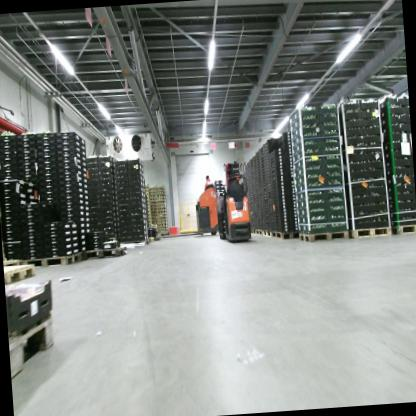pallet: (7, 314, 59, 392), (297, 224, 352, 247), (25, 251, 83, 268), (81, 247, 130, 264), (345, 226, 395, 241), (4, 263, 39, 284), (272, 225, 302, 241), (390, 222, 416, 238), (5, 258, 25, 274), (118, 239, 150, 248), (261, 227, 273, 238), (145, 236, 156, 247), (254, 227, 263, 237), (109, 237, 121, 244)
pallet_truck: (214, 167, 254, 247), (192, 181, 225, 242)
